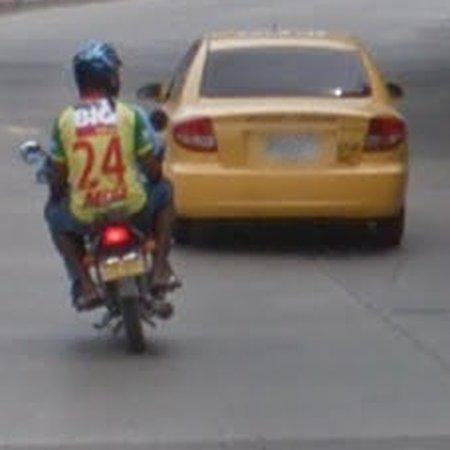taxis: (164, 31, 409, 244)
